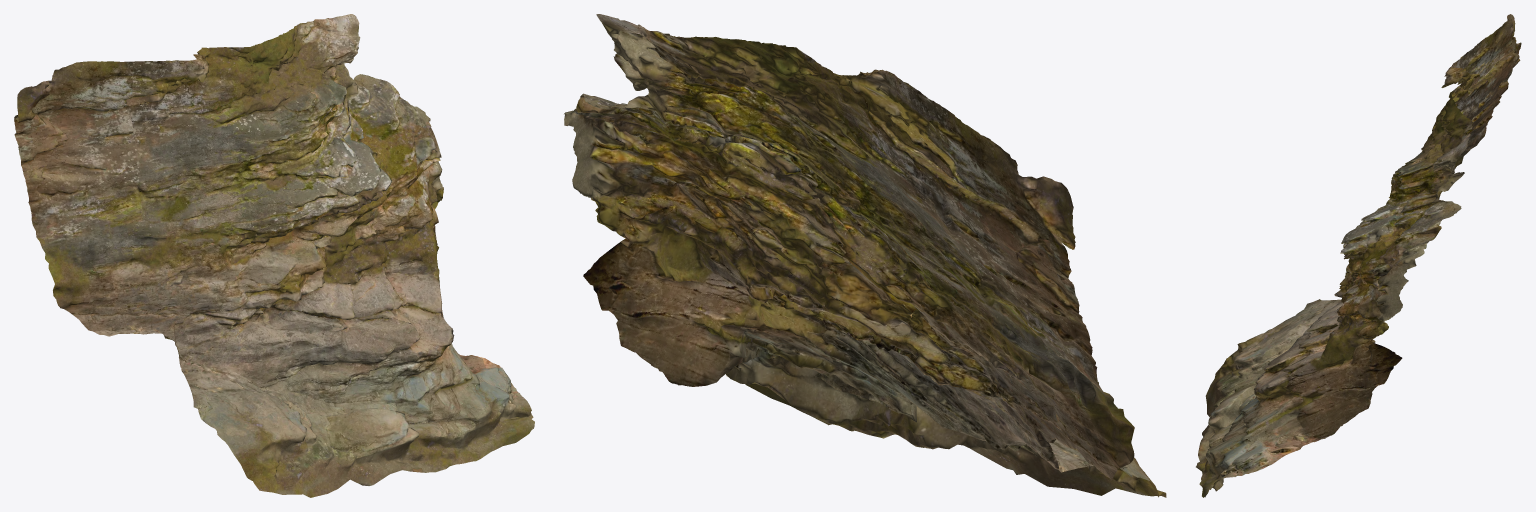
The model's file is rock_face_02.gltf.
3 renders of one model, left to right at view 1: azimuth 30°, elevation 25°; view 2: azimuth 150°, elevation 25°; view 3: azimuth 270°, elevation 25°, orthographic. The views are drawn at different scales.
Parts seen in each view (by area): view 1: rock_face_02; view 2: rock_face_02; view 3: rock_face_02.
Boxes of the visible parts, bbox=[...] form: rock_face_02: bbox=[14, 14, 534, 497]; rock_face_02: bbox=[564, 14, 1166, 497]; rock_face_02: bbox=[1196, 14, 1521, 497].
Bounding box in the file's own units: 2.71 × 2.47 × 2.13.
Materials: 1 (1 with a texture image).
